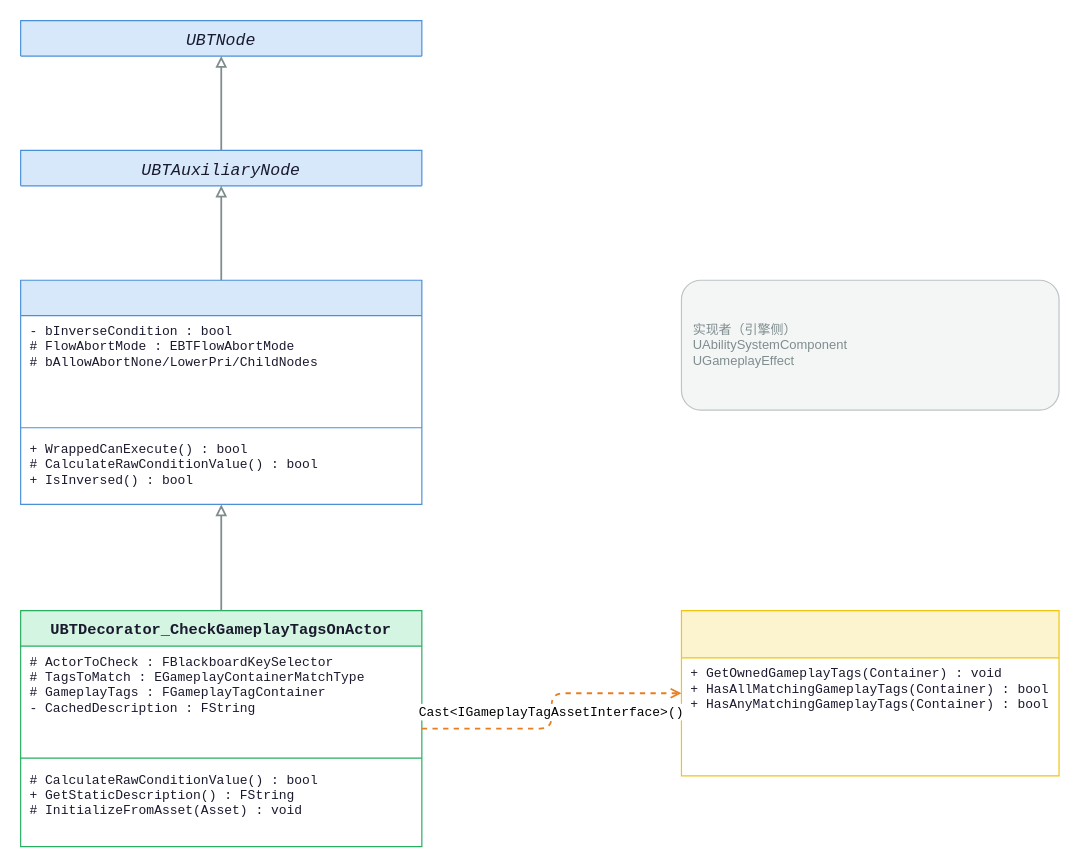
Image size: 1080x867. Some labels were removed from this diagram. Here are the shapes that lost their labels. From the top down, the box of each, then its label:
(19, 279, 422, 504): UBTDecorator
(680, 609, 1059, 776): «interface» IGameplayTagAssetInterface
